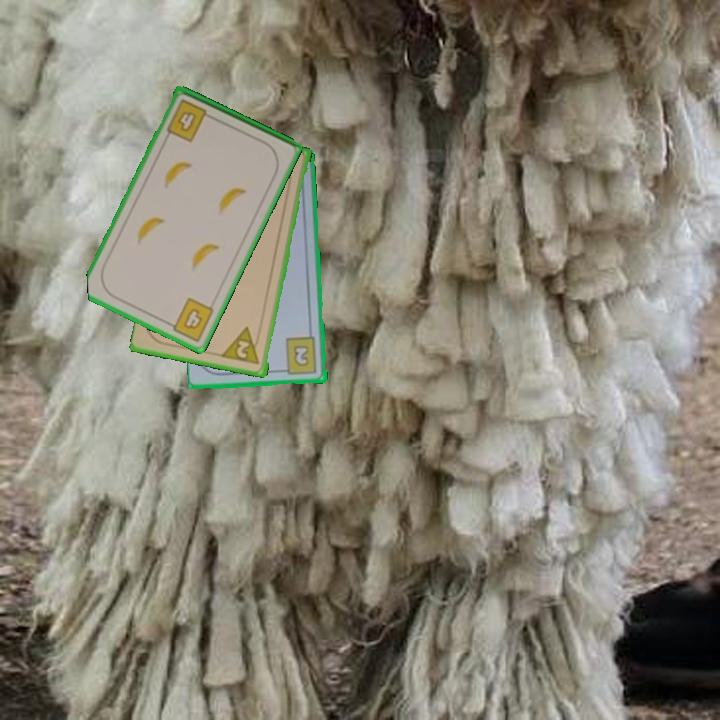2b: (278, 334, 320, 378)
2p: (220, 324, 263, 368)
4b: (163, 294, 217, 345), (163, 96, 216, 145)
